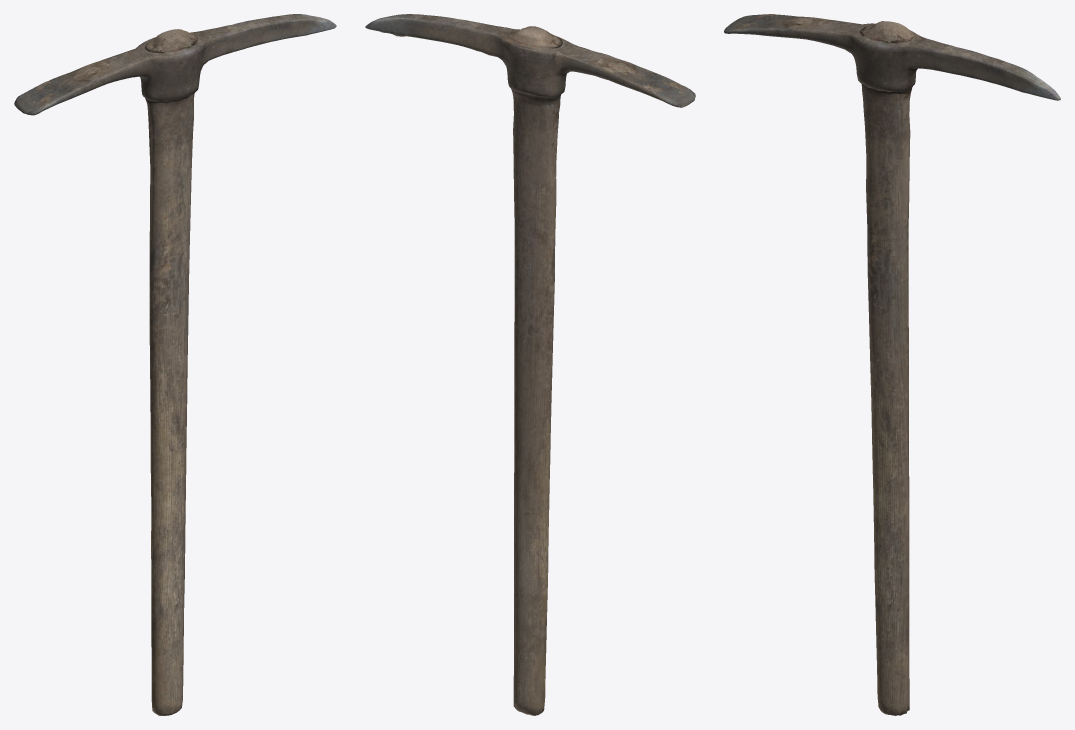
3 views of the same model, side by side, from view 1: azimuth 30°, elevation 25°; view 2: azimuth 150°, elevation 25°; view 3: azimuth 330°, elevation 25° (orthographic).
Parts seen in each view (by area): view 1: picke_dirty_01; view 2: picke_dirty_01; view 3: picke_dirty_01.
Boxes of the visible parts, x1=… form: picke_dirty_01: x1=14, y1=14, x2=336, y2=715; picke_dirty_01: x1=365, y1=14, x2=695, y2=715; picke_dirty_01: x1=724, y1=14, x2=1060, y2=715.
Size of the model in its own units: 0.5498 by 1.12 by 0.0691.
Materials: 1 (1 with a texture image).
